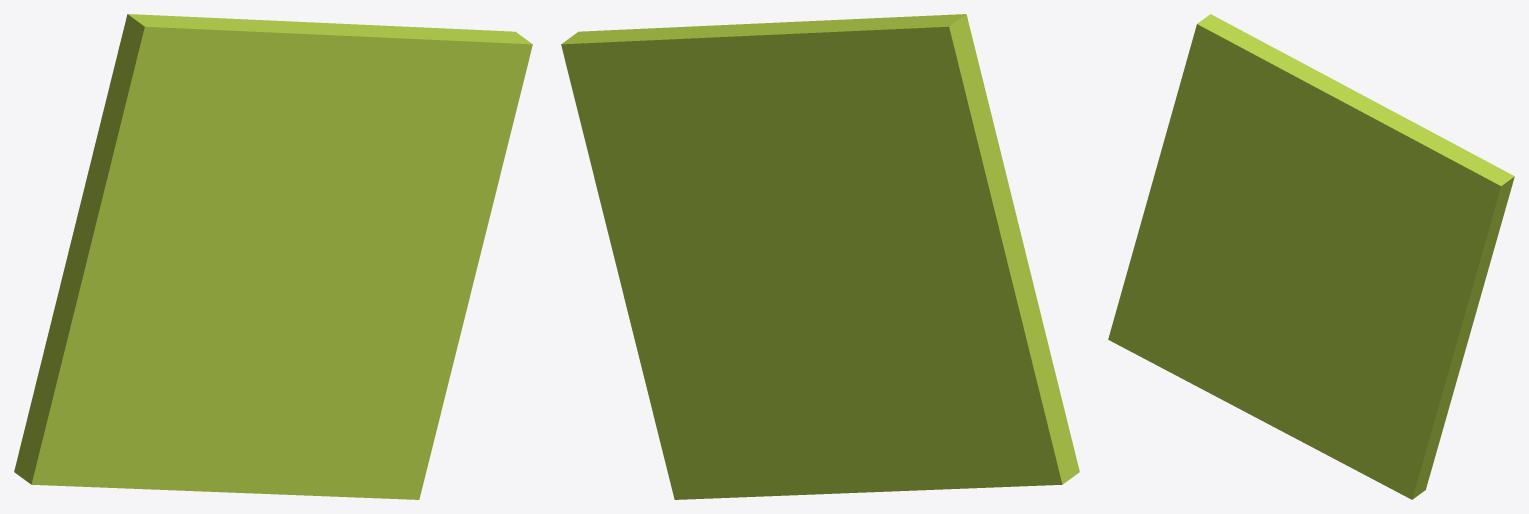
3 renders of one model, left to right at view 1: azimuth 30°, elevation 25°; view 2: azimuth 150°, elevation 25°; view 3: azimuth 330°, elevation 25°, orthographic. The views are drawn at different scales.
Visible parts, largest first — view 1: osm-way27917482-F-1; view 2: osm-way27917482-F-1; view 3: osm-way27917482-F-1.
Part boxes in pixels (x1,y1,x2,y2): osm-way27917482-F-1: (14,14,532,499); osm-way27917482-F-1: (561,14,1079,499); osm-way27917482-F-1: (1108,14,1514,499).
Bounding box in the file's own units: 2.49 × 2.57 × 0.15.
